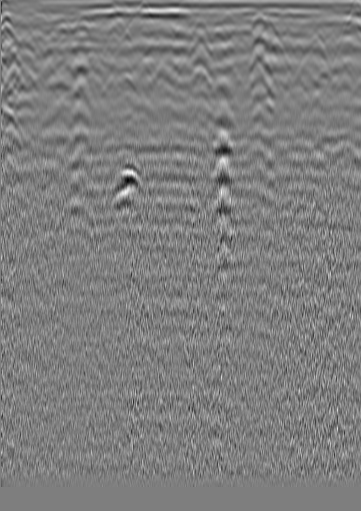가스: (107, 160, 148, 198)
상수: (18, 22, 38, 42)
오수: (302, 29, 322, 49)
우수: (161, 22, 181, 42)
